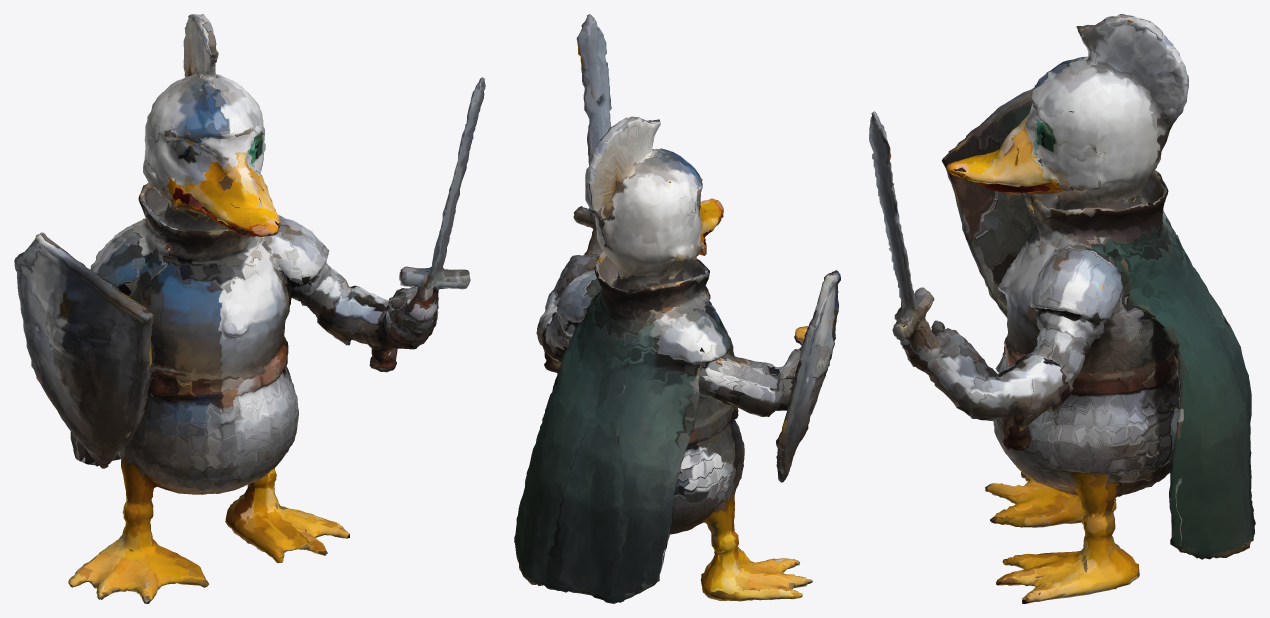
File: player.glb
3 views of the same model, side by side, from view 1: azimuth 30°, elevation 25°; view 2: azimuth 150°, elevation 25°; view 3: azimuth 270°, elevation 25° (orthographic). The views are drawn at different scales.
Parts seen in each view (by area): view 1: Mesh_0; view 2: Mesh_0; view 3: Mesh_0.
Part boxes in pixels (x1,y1,x2,y2): Mesh_0: (14,14,485,603); Mesh_0: (514,14,840,603); Mesh_0: (869,14,1255,603).
Bounding box in the file's own units: 1.5 × 2 × 1.3.
1 material, 1 textured.
